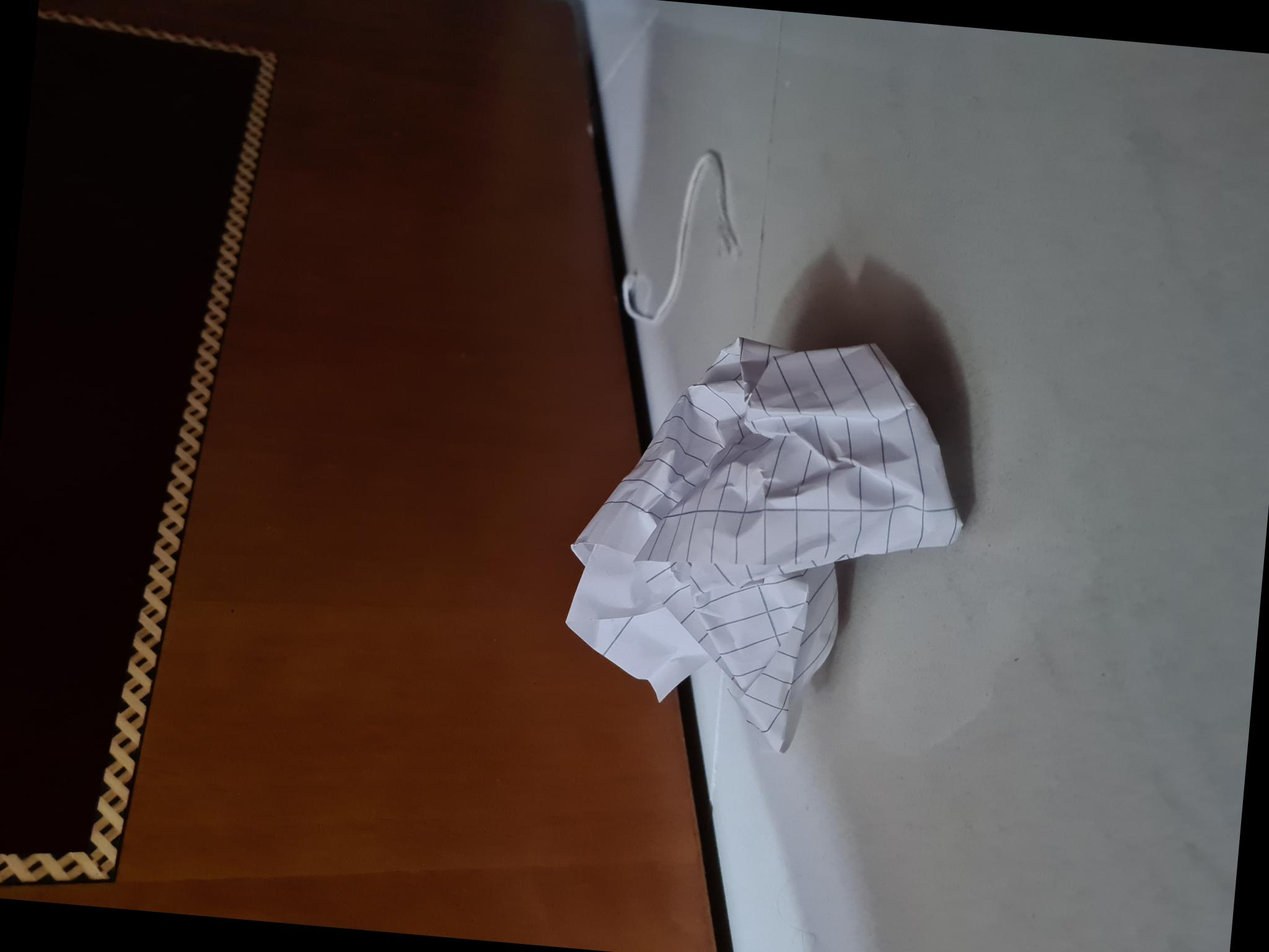Kertas: (201, 553, 600, 937)
